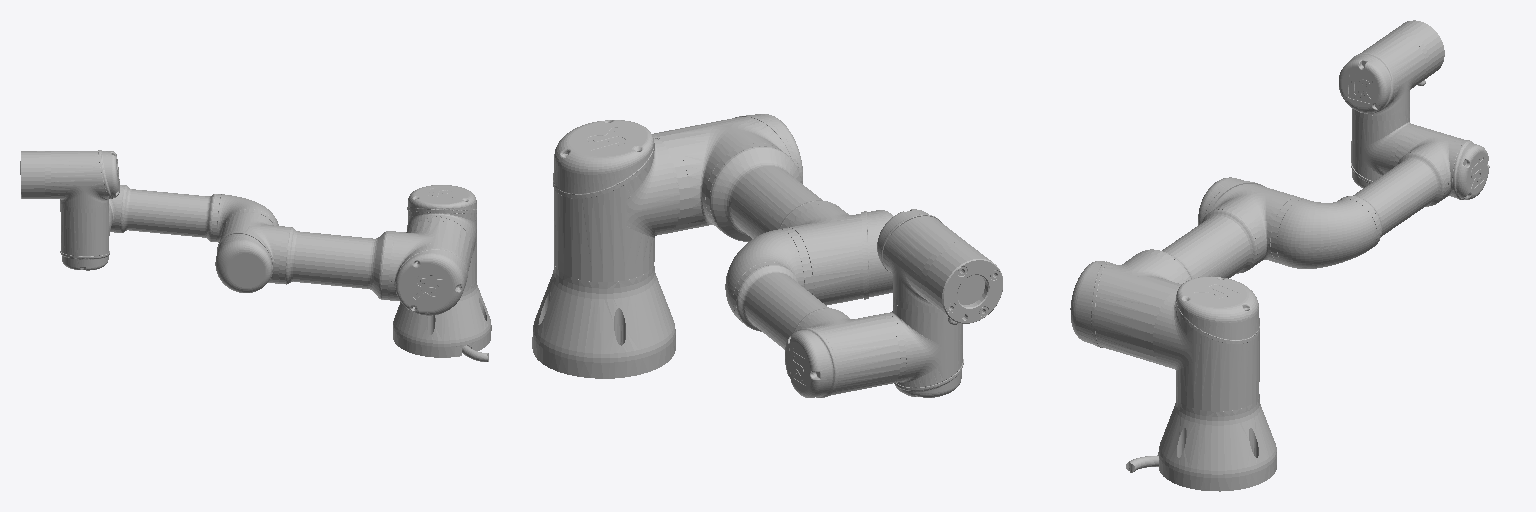
The robot description file, URDF, robot "ur33_9":
<?xml version="1.0" encoding="utf-8"?>
<!-- This URDF was automatically created by SolidWorks to URDF Exporter! Originally created by [author] ([email redacted]) 
     Commit Version: 1.6.0-4-g7f85cfe  Build Version: 1.6.7995.38578
     For more information, please see http://wiki.ros.org/sw_urdf_exporter -->
<robot
  name="ur33_9">
  <link
    name="base_link">
    <inertial>
      <origin
        xyz="3.93116168057695E-05 -0.000808491080125989 0.046220310995705"
        rpy="0 0 0" />
      <mass
        value="0.615785283013905" />
      <inertia
        ixx="0.000761300764311581"
        ixy="2.98963200654775E-07"
        ixz="3.53676883539922E-07"
        iyy="0.000774576499049897"
        iyz="-3.46585976118833E-06"
        izz="0.00100294058166069" />
    </inertial>
    <visual>
      <origin
        xyz="0 0 0"
        rpy="0 0 0" />
      <geometry>
        <mesh
          filename="package://ur33_9/meshes/base_link.STL" />
      </geometry>
      <material
        name="">
        <color
          rgba="0.752941176470588 0.752941176470588 0.752941176470588 1" />
      </material>
    </visual>
    <collision>
      <origin
        xyz="0 0 0"
        rpy="0 0 0" />
      <geometry>
        <mesh
          filename="package://ur33_9/meshes/base_link.STL" />
      </geometry>
    </collision>
  </link>
  <link
    name="link1">
    <inertial>
      <origin
        xyz="-6.40890311224412E-06 -0.00733849150357825 0.0542704216925715"
        rpy="0 0 0" />
      <mass
        value="0.75565200147581" />
      <inertia
        ixx="0.0010690364251667"
        ixy="-9.87580106738128E-08"
        ixz="-9.18584798041271E-08"
        iyy="0.000990112157246718"
        iyz="0.000131067496771688"
        izz="0.000906475919055016" />
    </inertial>
    <visual>
      <origin
        xyz="0 0 0"
        rpy="0 0 0" />
      <geometry>
        <mesh
          filename="package://ur33_9/meshes/link1.STL" />
      </geometry>
      <material
        name="">
        <color
          rgba="0.752941176470588 0.752941176470588 0.752941176470588 1" />
      </material>
    </visual>
    <collision>
      <origin
        xyz="0 0 0"
        rpy="0 0 0" />
      <geometry>
        <mesh
          filename="package://ur33_9/meshes/link1.STL" />
      </geometry>
    </collision>
  </link>
  <joint
    name="joint1"
    type="continuous">
    <origin
      xyz="0 0 0.0860499999999999"
      rpy="0 0 -0.620584680948326" />
    <parent
      link="base_link" />
    <child
      link="link1" />
    <axis
      xyz="0 0 1" />
    <limit
      lower="-3.14"
      upper="3.14"
      effort="100"
      velocity="2" />
  </joint>
  <link
    name="link2">
    <inertial>
      <origin
        xyz="0.105507855566823 -0.00651875870613094 0.116589806817637"
        rpy="0 0 0" />
      <mass
        value="1.80164400378124" />
      <inertia
        ixx="0.00167361400749911"
        ixy="6.03896803010441E-05"
        ixz="-8.09493352841318E-05"
        iyy="0.00264604373679342"
        iyz="4.90548100027575E-06"
        izz="0.00251727257663329" />
    </inertial>
    <visual>
      <origin
        xyz="0 0 0"
        rpy="0 0 0" />
      <geometry>
        <mesh
          filename="package://ur33_9/meshes/link2.STL" />
      </geometry>
      <material
        name="">
        <color
          rgba="0.752941176470588 0.752941176470588 0.752941176470588 1" />
      </material>
    </visual>
    <collision>
      <origin
        xyz="0 0 0"
        rpy="0 0 0" />
      <geometry>
        <mesh
          filename="package://ur33_9/meshes/link2.STL" />
      </geometry>
    </collision>
  </link>
  <joint
    name="joint2"
    type="continuous">
    <origin
      xyz="0 0 0.0658499732722049"
      rpy="-1.5707963267949 0 -3.14159265358979" />
    <parent
      link="link1" />
    <child
      link="link2" />
    <axis
      xyz="0 0 -1" />
    <limit
      lower="-3.14"
      upper="3.14"
      effort="100"
      velocity="2" />
  </joint>
  <link
    name="link3">
    <inertial>
      <origin
        xyz="0.111201544857623 -0.00017691642768769 0.088066613630878"
        rpy="0 0 0" />
      <mass
        value="0.962313887350874" />
      <inertia
        ixx="0.000542686595094019"
        ixy="7.97875522856468E-07"
        ixz="-4.61067358594748E-05"
        iyy="0.00107268335520577"
        iyz="5.64148019578365E-08"
        izz="0.00101491002267338" />
    </inertial>
    <visual>
      <origin
        xyz="0 0 0"
        rpy="0 0 0" />
      <geometry>
        <mesh
          filename="package://ur33_9/meshes/link3.STL" />
      </geometry>
      <material
        name="">
        <color
          rgba="0.752941176470588 0.752941176470588 0.752941176470588 1" />
      </material>
    </visual>
    <collision>
      <origin
        xyz="0 0 0"
        rpy="0 0 0" />
      <geometry>
        <mesh
          filename="package://ur33_9/meshes/link3.STL" />
      </geometry>
    </collision>
  </link>
  <joint
    name="joint3"
    type="continuous">
    <origin
      xyz="0.243186671524644 -0.0150188312716069 0.119849973272205"
      rpy="3.14159265358979 0 -0.061680108886036" />
    <parent
      link="link2" />
    <child
      link="link3" />
    <axis
      xyz="0 0 1" />
    <limit
      lower="-3.14"
      upper="3.14"
      effort="100"
      velocity="2" />
  </joint>
  <link
    name="link4">
    <inertial>
      <origin
        xyz="4.34412598342981E-05 -0.000516666325258291 0.0774754443799548"
        rpy="0 0 0" />
      <mass
        value="0.325306362987453" />
      <inertia
        ixx="0.000226099809203537"
        ixy="1.93050247863309E-06"
        ixz="1.30816491925328E-06"
        iyy="0.000199237225600119"
        iyz="-1.83018699992413E-05"
        izz="0.000194597438882411" />
    </inertial>
    <visual>
      <origin
        xyz="0 0 0"
        rpy="0 0 0" />
      <geometry>
        <mesh
          filename="package://ur33_9/meshes/link4.STL" />
      </geometry>
      <material
        name="">
        <color
          rgba="0.752941176470588 0.752941176470588 0.752941176470588 1" />
      </material>
    </visual>
    <collision>
      <origin
        xyz="0 0 0"
        rpy="0 0 0" />
      <geometry>
        <mesh
          filename="package://ur33_9/meshes/link4.STL" />
      </geometry>
    </collision>
  </link>
  <joint
    name="joint4"
    type="continuous">
    <origin
      xyz="0.212999736506819 -0.000335034510404786 0.0932110000000094"
      rpy="-3.14159265358979 0 3.14001972096386" />
    <parent
      link="link3" />
    <child
      link="link4" />
    <axis
      xyz="0 0 -1" />
    <limit
      lower="-3.14"
      upper="3.14"
      effort="100"
      velocity="2" />
  </joint>
  <link
    name="link5">
    <inertial>
      <origin
        xyz="-0.000354488752411453 5.06691579300611E-05 0.0774766059543064"
        rpy="0 0 0" />
      <mass
        value="0.325298283111173" />
      <inertia
        ixx="0.000198892806308138"
        ixy="-2.32977464751044E-06"
        ixz="1.83297421641375E-05"
        iyy="0.000226039939642543"
        iyz="1.54379298477626E-06"
        izz="0.000195010750654357" />
    </inertial>
    <visual>
      <origin
        xyz="0 0 0"
        rpy="0 0 0" />
      <geometry>
        <mesh
          filename="package://ur33_9/meshes/link5.STL" />
      </geometry>
      <material
        name="">
        <color
          rgba="0.752941176470588 0.752941176470588 0.752941176470588 1" />
      </material>
    </visual>
    <collision>
      <origin
        xyz="0 0 0"
        rpy="0 0 0" />
      <geometry>
        <mesh
          filename="package://ur33_9/meshes/link5.STL" />
      </geometry>
    </collision>
  </link>
  <joint
    name="joint5"
    type="continuous">
    <origin
      xyz="0 0 0.083400000000039"
      rpy="-1.5707963267949 0 0.0601071762600877" />
    <parent
      link="link4" />
    <child
      link="link5" />
    <axis
      xyz="-0.0112210655362192 0 0.999937041862252" />
    <limit
      lower="-3.14"
      upper="3.14"
      effort="100"
      velocity="2" />
  </joint>
  <link
    name="link6">
    <inertial>
      <origin
        xyz="3.31277504731498E-05 -9.78578982171463E-05 -0.0619729047062861"
        rpy="0 0 0" />
      <mass
        value="0.115355209231118" />
      <inertia
        ixx="4.24906399512794E-05"
        ixy="-6.4592566202762E-08"
        ixz="3.31059807141553E-08"
        iyy="4.26595810436987E-05"
        iyz="-9.77694375039015E-08"
        izz="5.90666201268358E-05" />
    </inertial>
    <visual>
      <origin
        xyz="0 0 0"
        rpy="0 0 0" />
      <geometry>
        <mesh
          filename="package://ur33_9/meshes/link6.STL" />
      </geometry>
      <material
        name="">
        <color
          rgba="0.752941176470588 0.752941176470588 0.752941176470588 1" />
      </material>
    </visual>
    <collision>
      <origin
        xyz="0 0 0"
        rpy="0 0 0" />
      <geometry>
        <mesh
          filename="package://ur33_9/meshes/link6.STL" />
      </geometry>
    </collision>
  </link>
  <joint
    name="joint6"
    type="continuous">
    <origin
      xyz="-0.000935836865722239 0 0.0833947492912572"
      rpy="-1.55961608160699 -0.000959037340519513 -1.48522972284381" />
    <parent
      link="link5" />
    <child
      link="link6" />
    <axis
      xyz="0 0 1" />
    <limit
      lower="-3.14"
      upper="3.14"
      effort="100"
      velocity="2" />
  </joint>
</robot>

--- Render facts (derived) ---
The picture shows the robot from 3 angles, left to right: view 1: azimuth 30°, elevation 25°; view 2: azimuth 150°, elevation 25°; view 3: azimuth 270°, elevation 25°; orthographic projection.
Model ur33_9 with 7 links and 6 joints (6 continuous), rooted at base_link, posed all joints at 0.
Links seen in each view (by area): view 1: link2, link3, base_link, link5, link1, link4, link6; view 2: link2, link1, link3, base_link, link4, link6, link5; view 3: link2, link3, link1, base_link, link5, link4, link6.
Boxes of the visible links, left/top/right/bottom form: link2: left=215, top=212, right=472, bottom=315; link3: left=109, top=185, right=278, bottom=242; base_link: left=393, top=279, right=491, bottom=361; link5: left=51, top=150, right=119, bottom=212; link1: left=406, top=185, right=476, bottom=287; link4: left=60, top=204, right=111, bottom=270; link6: left=20, top=151, right=51, bottom=198; link2: left=654, top=114, right=893, bottom=305; link1: left=553, top=120, right=679, bottom=281; link3: left=725, top=227, right=900, bottom=397; base_link: left=532, top=264, right=675, bottom=378; link4: left=882, top=301, right=963, bottom=397; link6: left=921, top=242, right=1002, bottom=324; link5: left=877, top=209, right=969, bottom=312; link2: left=1070, top=177, right=1296, bottom=364; link3: left=1270, top=126, right=1489, bottom=268; link1: left=1153, top=276, right=1259, bottom=411; base_link: left=1126, top=394, right=1276, bottom=491; link5: left=1339, top=33, right=1425, bottom=120; link4: left=1351, top=111, right=1416, bottom=187; link6: left=1388, top=20, right=1444, bottom=85.
Size in the robot's own frame: 0.586 by 0.4518 by 0.2963 metres.
Meshes: 7 distinct files referenced, 7 mesh visuals loaded (7 binary STL).